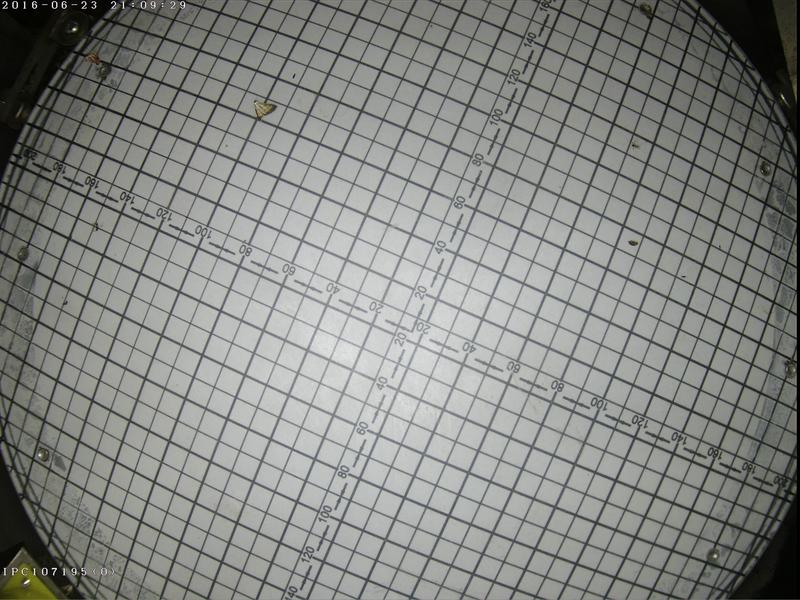Rice Leaf Roller: (250, 96, 279, 122)
